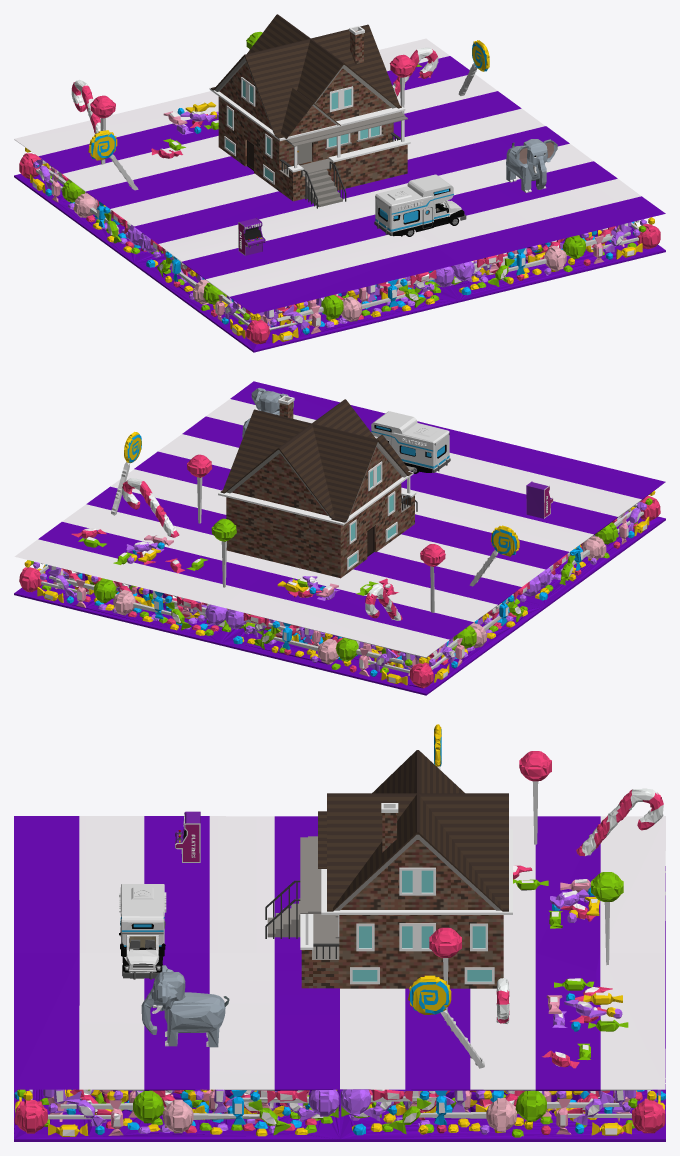
The picture shows the model from 3 angles, top to bottom: view 1: azimuth 30°, elevation 25°; view 2: azimuth 150°, elevation 25°; view 3: azimuth 270°, elevation 25°; orthographic projection. The views are drawn at different scales.
Visible parts, largest first — view 1: TERRAIN_CANDY, Cube.117, VEHICLES_CAMPER, ANIMAL_ELEFANTE, OBJRANDOM_ARCADE; view 2: TERRAIN_CANDY, Cube.117, VEHICLES_CAMPER, OBJRANDOM_ARCADE, ANIMAL_ELEFANTE; view 3: TERRAIN_CANDY, Cube.117, VEHICLES_CAMPER, ANIMAL_ELEFANTE, OBJRANDOM_ARCADE.
Part boxes in pixels (left/top/right/bottom): TERRAIN_CANDY: left=14, top=31, right=665, bottom=352; Cube.117: left=209, top=14, right=410, bottom=208; VEHICLES_CAMPER: left=374, top=174, right=466, bottom=236; ANIMAL_ELEFANTE: left=506, top=139, right=557, bottom=192; OBJRANDOM_ARCADE: left=238, top=217, right=265, bottom=255; TERRAIN_CANDY: left=14, top=381, right=665, bottom=695; Cube.117: left=218, top=395, right=417, bottom=578; VEHICLES_CAMPER: left=371, top=411, right=450, bottom=473; OBJRANDOM_ARCADE: left=526, top=481, right=553, bottom=518; ANIMAL_ELEFANTE: left=242, top=388, right=293, bottom=437; TERRAIN_CANDY: left=14, top=724, right=665, bottom=1141; Cube.117: left=265, top=750, right=512, bottom=988; VEHICLES_CAMPER: left=119, top=884, right=166, bottom=979; ANIMAL_ELEFANTE: left=141, top=965, right=229, bottom=1047; OBJRANDOM_ARCADE: left=175, top=811, right=200, bottom=862.
Bounding box in the file's own units: 4059 × 1736 × 4000.
Materials: 35 (3 with a texture image).
